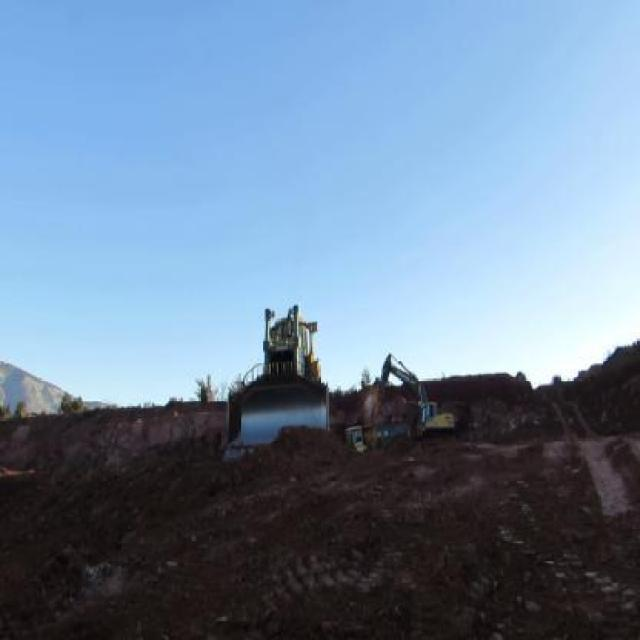excavator: (366, 356, 456, 438)
